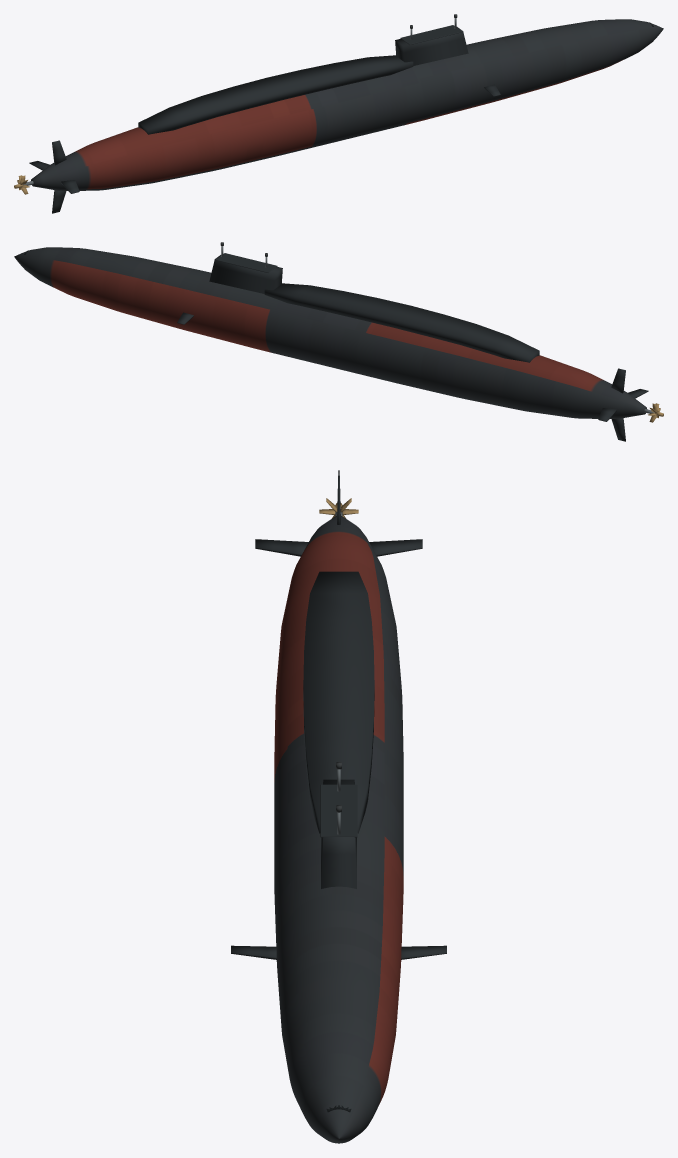
File: RU_SSBN_Yankee.glb
The picture shows the model from 3 angles, top to bottom: view 1: azimuth 30°, elevation 25°; view 2: azimuth 150°, elevation 25°; view 3: azimuth 270°, elevation 25°; orthographic projection. The views are drawn at different scales.
Visible parts, largest first — view 1: RU_SSBN_Yankee_LOD0; view 2: RU_SSBN_Yankee_LOD0; view 3: RU_SSBN_Yankee_LOD0.
Part boxes in pixels (x1,y1,x2,y2): RU_SSBN_Yankee_LOD0: [14, 14, 663, 213]; RU_SSBN_Yankee_LOD0: [14, 242, 663, 441]; RU_SSBN_Yankee_LOD0: [231, 470, 446, 1143].
Bounding box in the file's own units: 136 × 20.02 × 19.55.
Materials: 6 (1 with a texture image).
